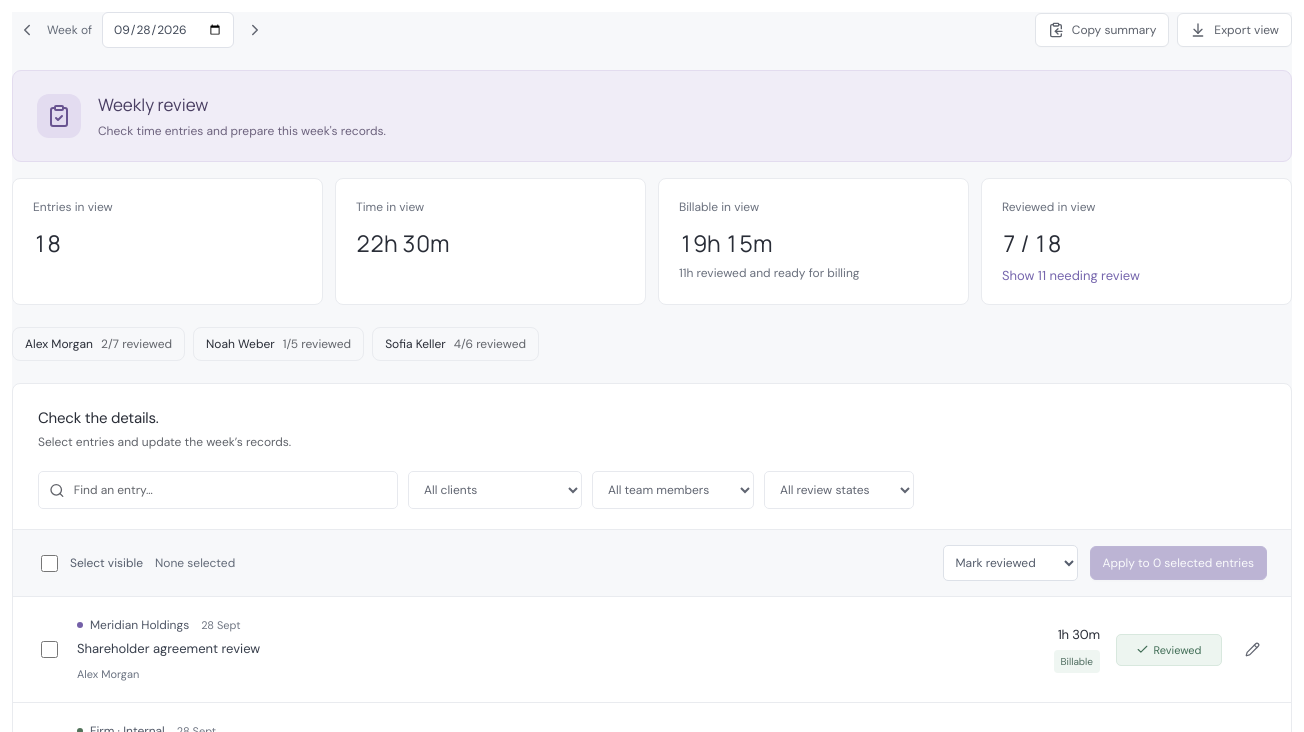
Scenario: Weekly review scope › shows review progress per team member and filters by member
Click the button "Sofia Keller 4/6 reviewed" at [456, 344], box [372,327,539,361]
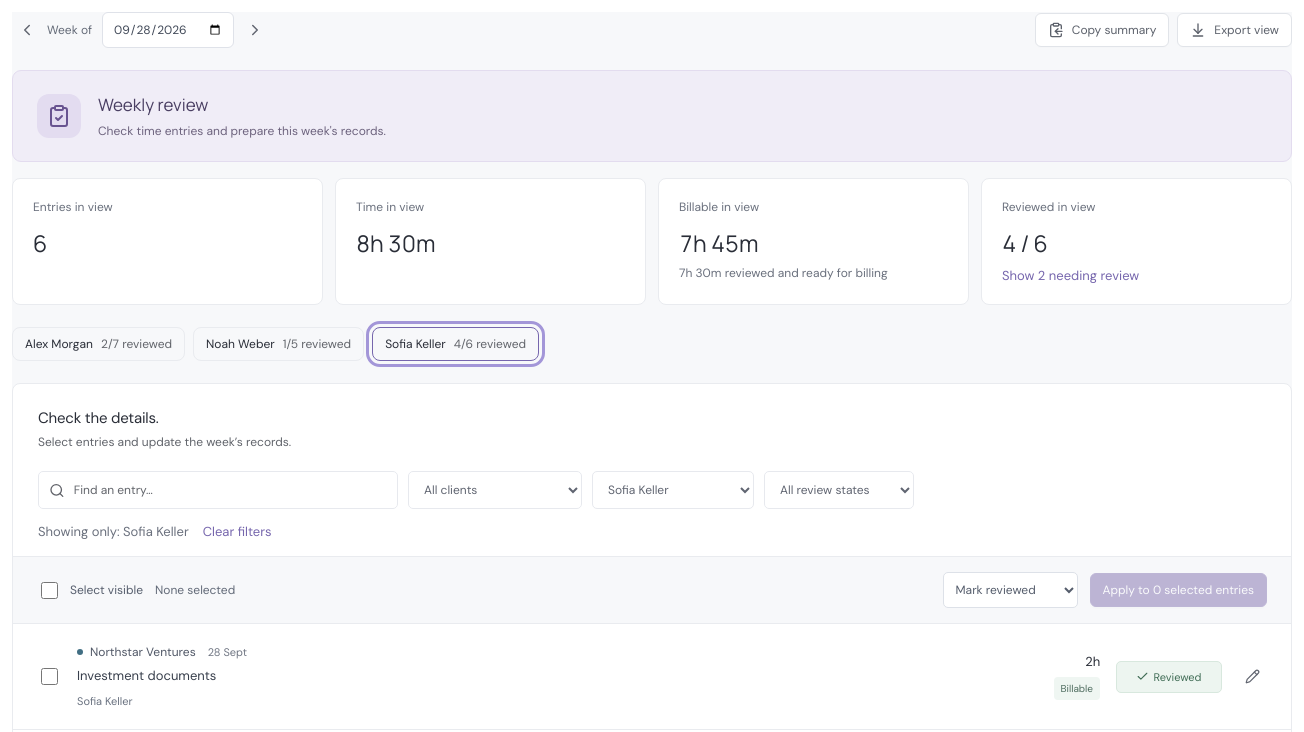
Expected: the dropdown named "Review employee" shows "Sofia Keller", [592,471,754,509]
Expected: the number of elements with class "review-row" is 6
Click the button "Sofia Keller 4/6 reviewed" at [456, 344], box [372,327,539,361]
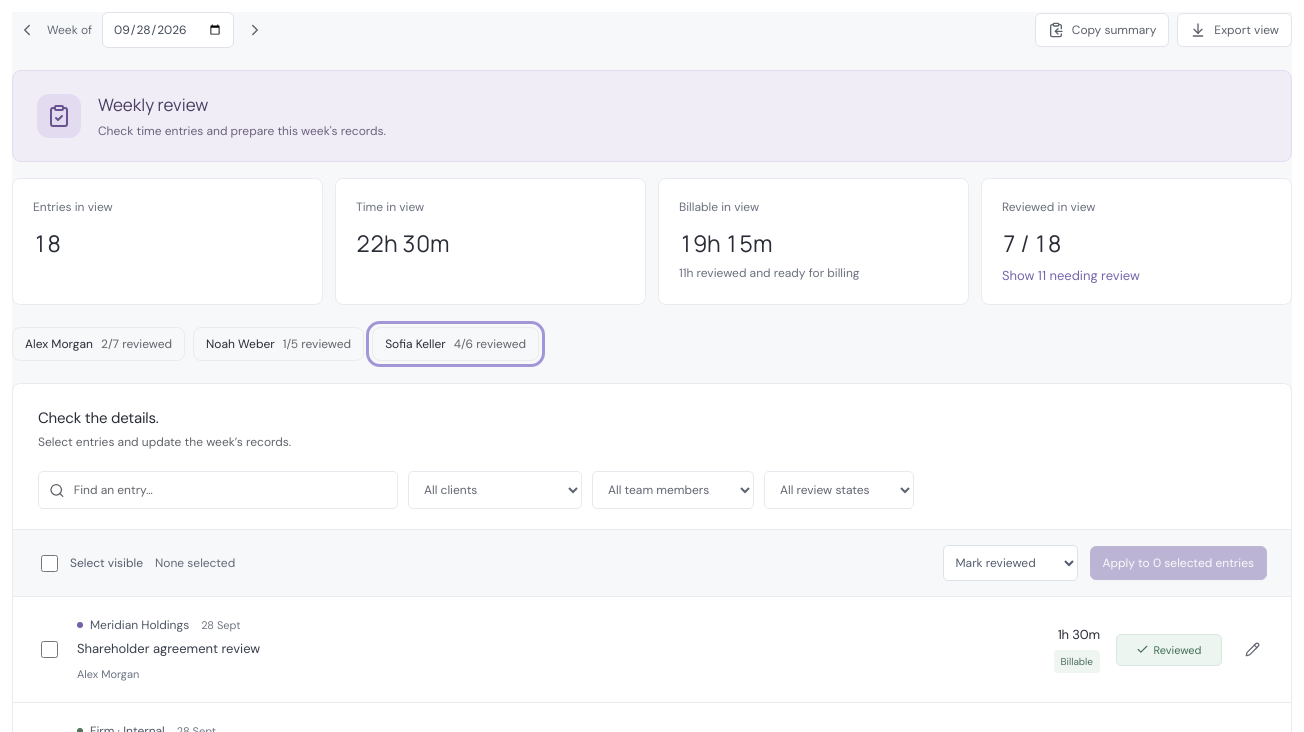
Expected: the dropdown named "Review employee" shows "All team members", [592,471,754,509]
